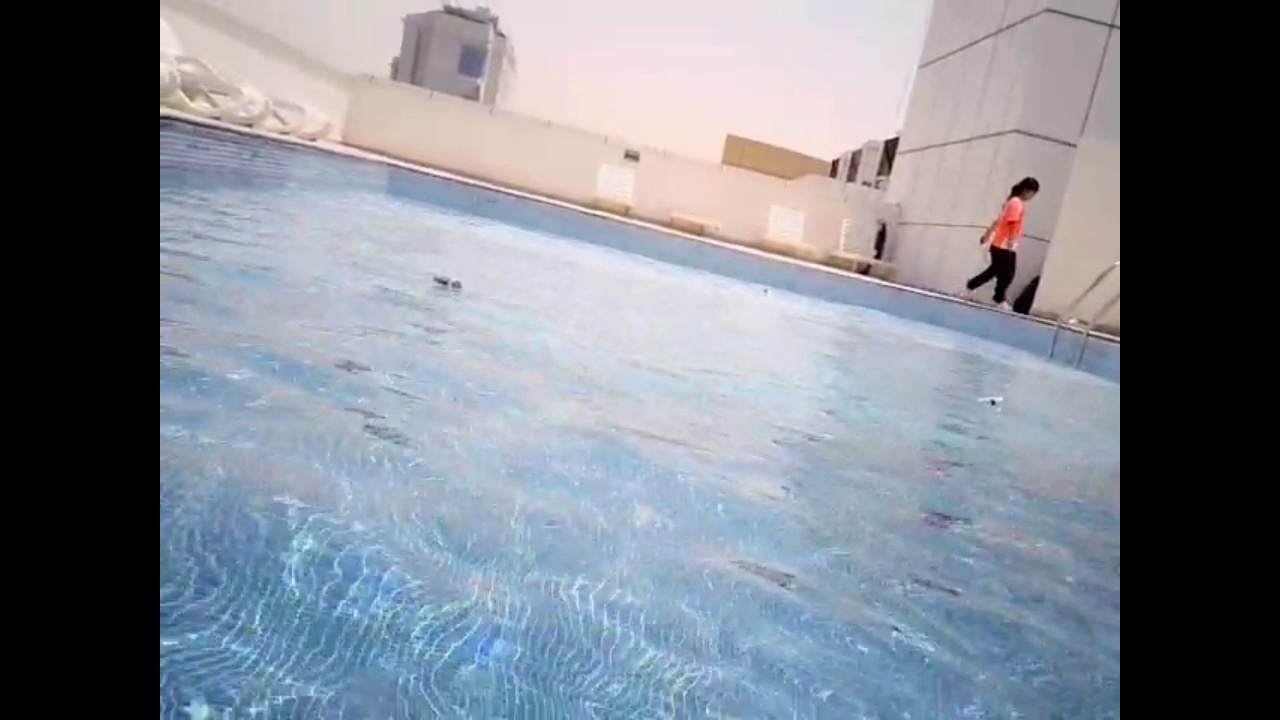debris: (420, 266, 465, 298), (971, 386, 1008, 414), (760, 283, 769, 292)
